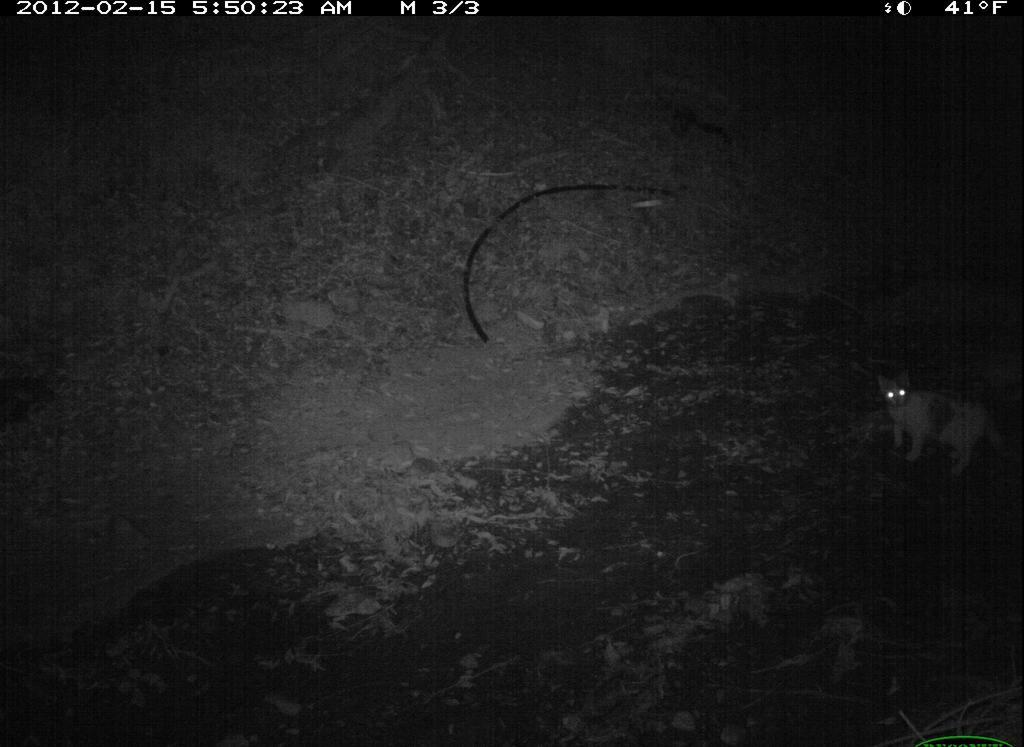cat: (873, 360, 1016, 486)
